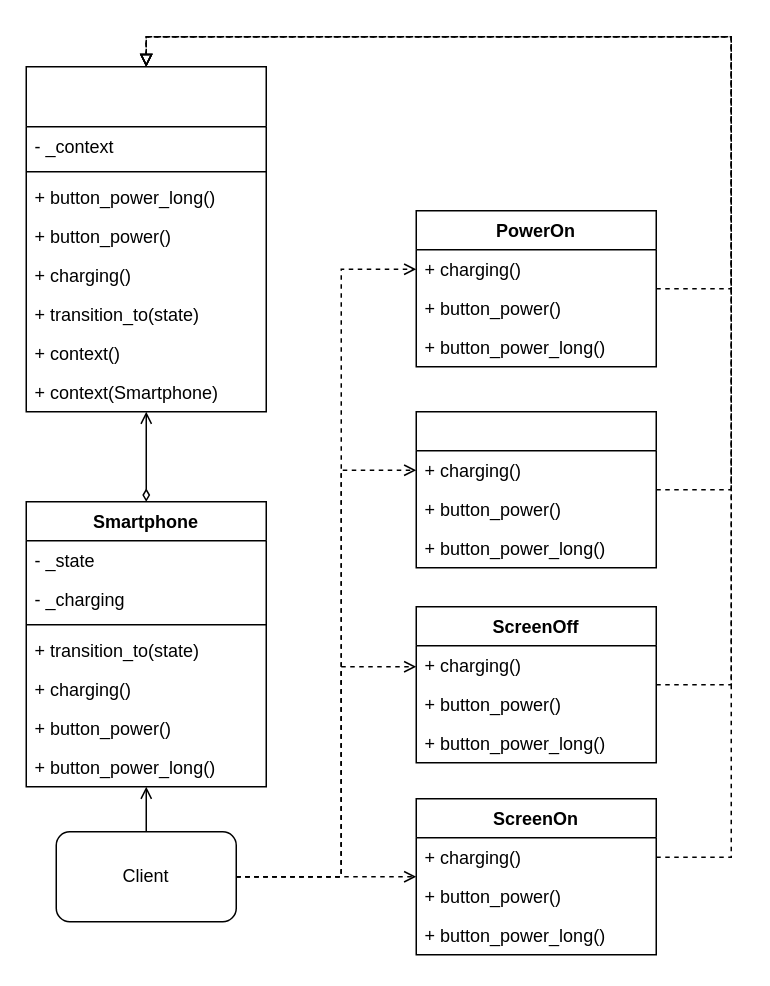
Some shapes in this 770 by 986 pixel diagram are drawn without their labels. The box of each missing label's shape, as (x1, y1, x2, y2) in pixels:
PowerOff: (415, 410, 656, 568)
«interface» State: (25, 65, 266, 412)
